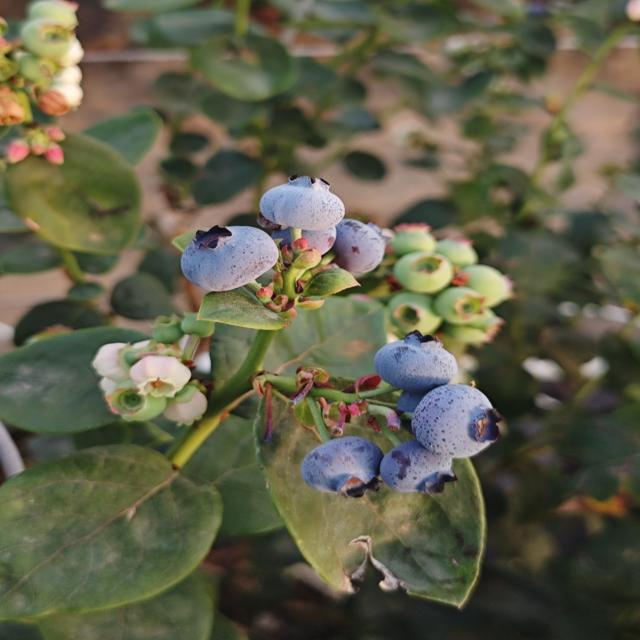ripe: (163, 225, 281, 290), (405, 378, 503, 455), (297, 435, 394, 493), (372, 332, 468, 388), (271, 174, 350, 235), (373, 443, 455, 498), (388, 374, 461, 431), (322, 217, 392, 272), (273, 216, 338, 262)
